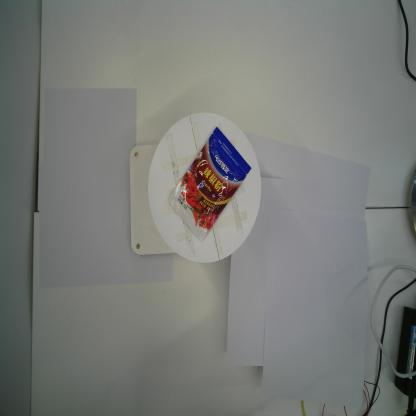Seasoner: (168, 126, 252, 242)
